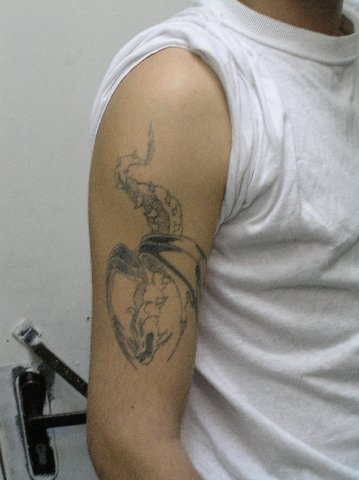tatu6_drakon: (100, 119, 206, 380)
